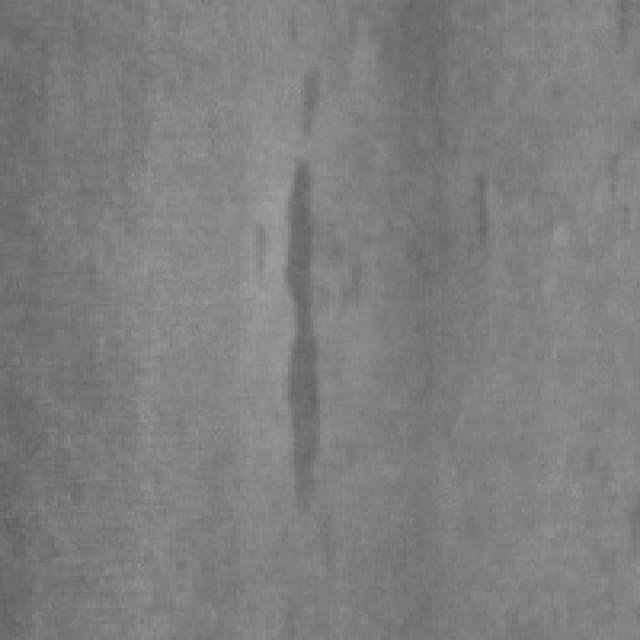inclusion: (256, 58, 352, 518), (445, 160, 496, 272)
